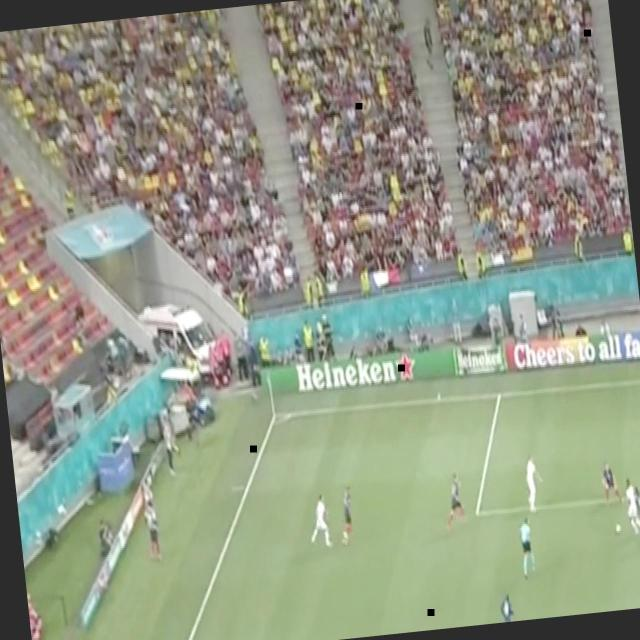ball: (615, 523, 623, 535)
player-white: (440, 471, 468, 535), (306, 493, 334, 552), (523, 455, 547, 517), (336, 483, 358, 549), (598, 460, 626, 510), (517, 516, 538, 582), (623, 475, 640, 537), (491, 590, 517, 623), (633, 484, 640, 546)
